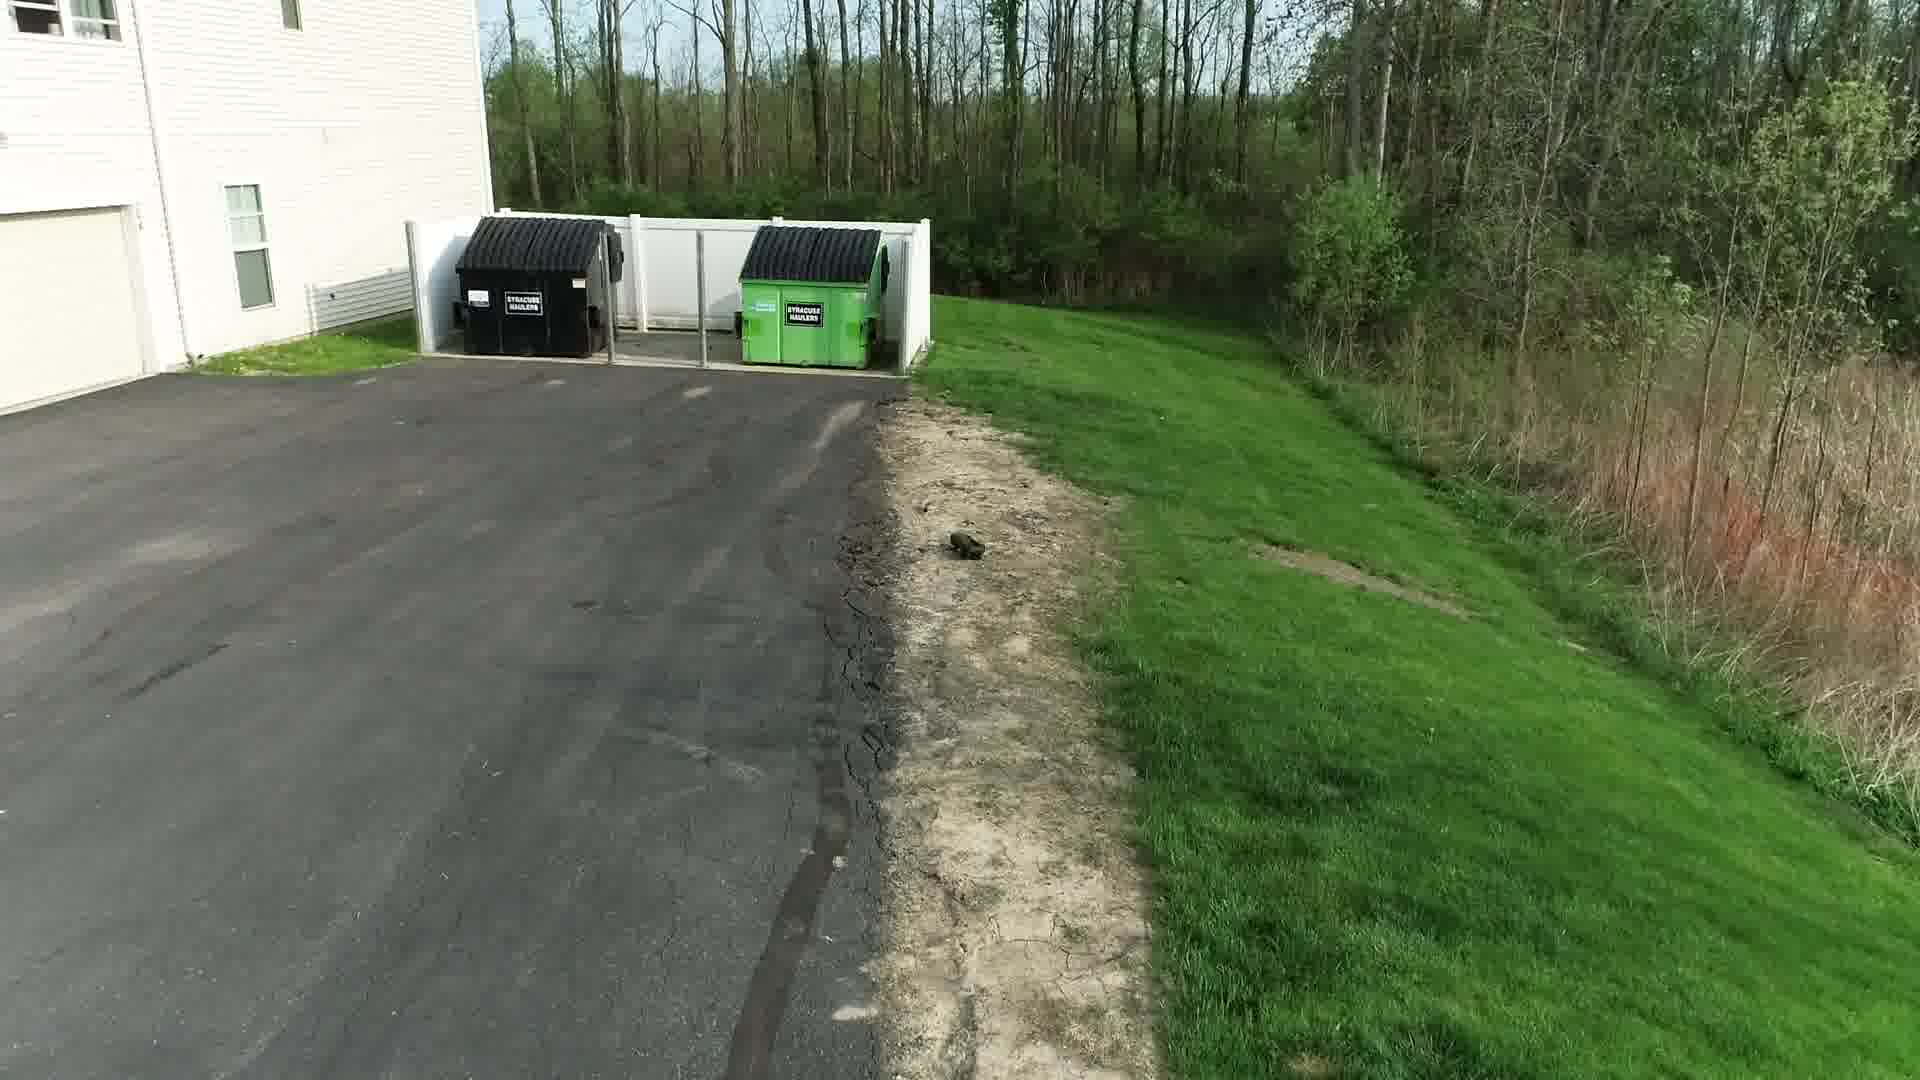transporter9: (949, 530, 989, 559)
